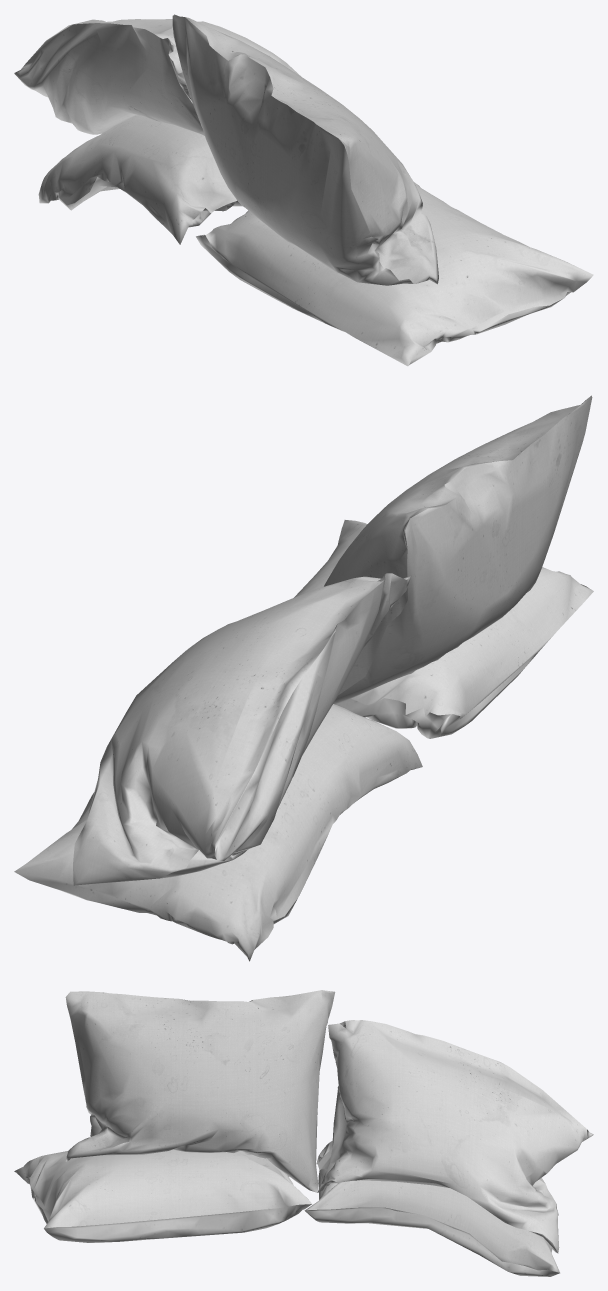
Rendered from SM_Pillow_Pile.fbx.
3 renders of one model, top to bottom at view 1: azimuth 30°, elevation 25°; view 2: azimuth 150°, elevation 25°; view 3: azimuth 270°, elevation 25°, orthographic. The views are drawn at different scales.
Visible parts, largest first — view 1: SM_Pillow_Pile_LOD0; view 2: SM_Pillow_Pile_LOD0; view 3: SM_Pillow_Pile_LOD0.
Boxes of the visible parts, x1,y1,x2,y2 form: SM_Pillow_Pile_LOD0: (14,14,593,366); SM_Pillow_Pile_LOD0: (14,395,593,961); SM_Pillow_Pile_LOD0: (14,990,593,1276).
Bounding box in the file's own units: 82.59 × 215 × 94.83.
